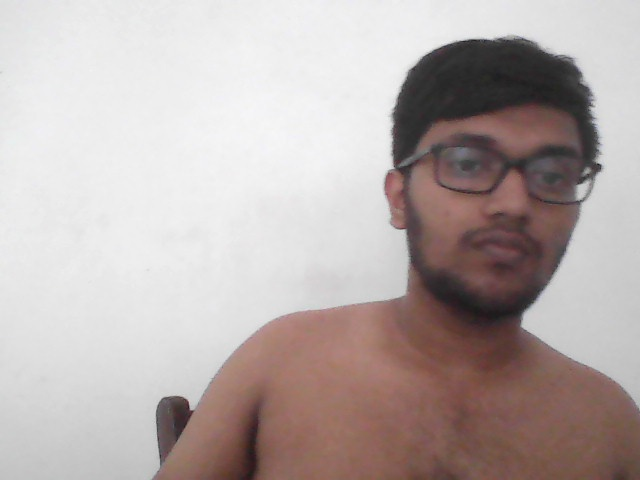upper level: (384, 34, 602, 326)
